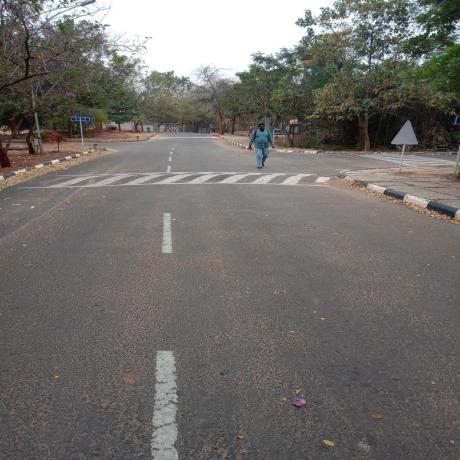Speed Bump: (14, 174, 339, 185)
